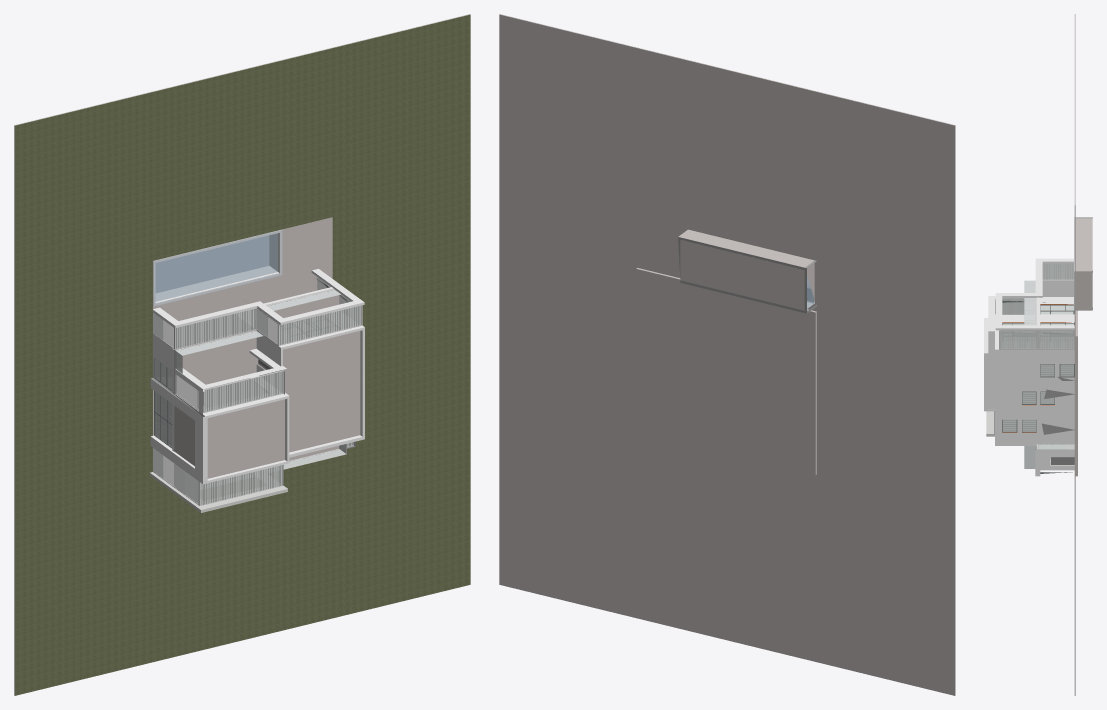
Rendered from villa22_far.glb.
3 renders of one model, left to right at view 1: azimuth 30°, elevation 25°; view 2: azimuth 150°, elevation 25°; view 3: azimuth 270°, elevation 25°, orthographic. The views are drawn at different scales.
Visible parts, largest first — view 1: Obj.13706:1, Obj.13706, Obj.10197:1, Obj.12904, Obj.13535, Obj.20231, Obj.11683:4, Obj.20246, Obj.13357; view 2: Obj.13706, Obj.10198:1; view 3: Obj.10197:1, Obj.12904, Obj.13706, Obj.13535, Obj.11683:4, Obj.10297:1, Obj.10198:1, Obj.13357.
Part boxes in pixels (bbox=[...]): Obj.13706:1: bbox=[15, 14, 470, 695]; Obj.13706: bbox=[14, 14, 470, 695]; Obj.10197:1: bbox=[150, 233, 364, 484]; Obj.12904: bbox=[153, 278, 361, 505]; Obj.13535: bbox=[153, 277, 362, 505]; Obj.20231: bbox=[155, 233, 277, 301]; Obj.11683:4: bbox=[176, 289, 346, 469]; Obj.20246: bbox=[153, 229, 282, 306]; Obj.13357: bbox=[149, 472, 287, 512]; Obj.13706: bbox=[499, 14, 955, 695]; Obj.10198:1: bbox=[678, 237, 816, 313]; Obj.10197:1: bbox=[984, 258, 1074, 476]; Obj.12904: bbox=[1000, 263, 1073, 449]; Obj.13706: bbox=[988, 14, 1092, 695]; Obj.13535: bbox=[994, 264, 1074, 449]; Obj.11683:4: bbox=[1024, 280, 1035, 468]; Obj.10297:1: bbox=[1002, 300, 1074, 473]; Obj.10198:1: bbox=[1042, 217, 1092, 434]; Obj.13357: bbox=[986, 411, 994, 436].
Bounding box in the file's own units: 39.59 × 47.32 × 9.5.
Materials: 31 (8 with a texture image).
